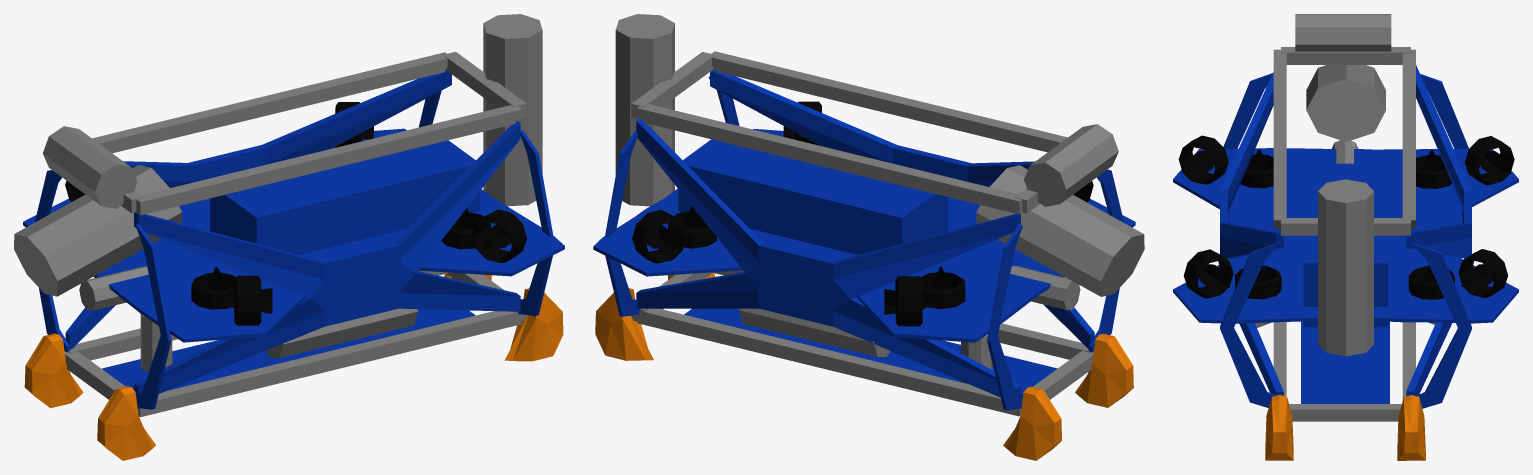
3 views of the same model, side by side, from view 1: azimuth 30°, elevation 25°; view 2: azimuth 150°, elevation 25°; view 3: azimuth 270°, elevation 25° (orthographic). The views are drawn at different scales.
Visible parts, largest first — view 1: Frame, Connecting_Rods, Tubes, Computer_Box, Feet, Thrusters, Bottom_Plate; view 2: Frame, Connecting_Rods, Tubes, Computer_Box, Feet, Thrusters, Bottom_Plate; view 3: Frame, Tubes, Connecting_Rods, Thrusters, Bottom_Plate, Computer_Box, Feet.
Part boxes in pixels (x1,y1,x2,y2): Frame: (23,70,564,409); Connecting_Rods: (64,51,526,417); Tubes: (14,14,542,371); Computer_Box: (210,140,479,254); Feet: (24,273,563,460); Thrusters: (65,102,526,325); Bottom_Plate: (102,309,475,390); Frame: (593,69,1135,410); Connecting_Rods: (631,51,1093,416); Tubes: (615,14,1144,383); Computer_Box: (678,139,948,254); Feet: (595,273,1133,460); Thrusters: (632,101,1093,326); Bottom_Plate: (684,308,1057,393); Frame: (1173,65,1518,408); Tubes: (1255,14,1435,356); Connecting_Rods: (1273,47,1415,421); Thrusters: (1178,135,1514,299); Bottom_Plate: (1301,321,1389,403); Computer_Box: (1303,163,1388,327); Feet: (1265,395,1425,460).
Size of the model in its own units: 0.9503 by 0.6072 by 0.5259.
